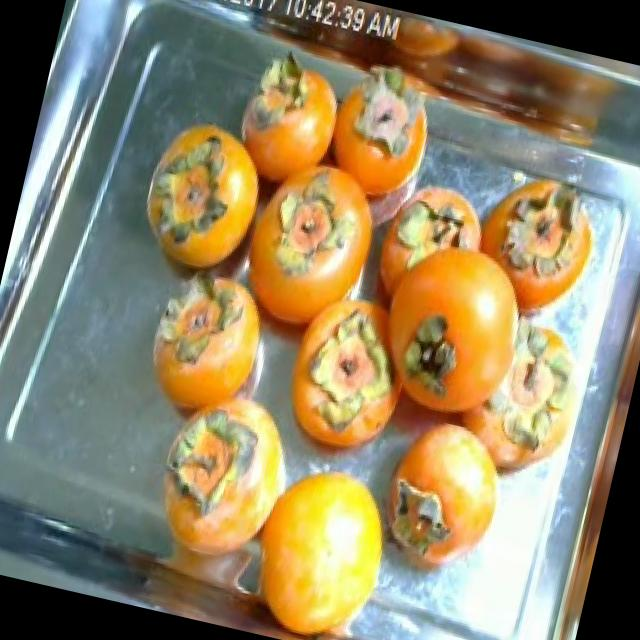Fruit: (225, 435, 413, 640), (458, 147, 620, 345)
